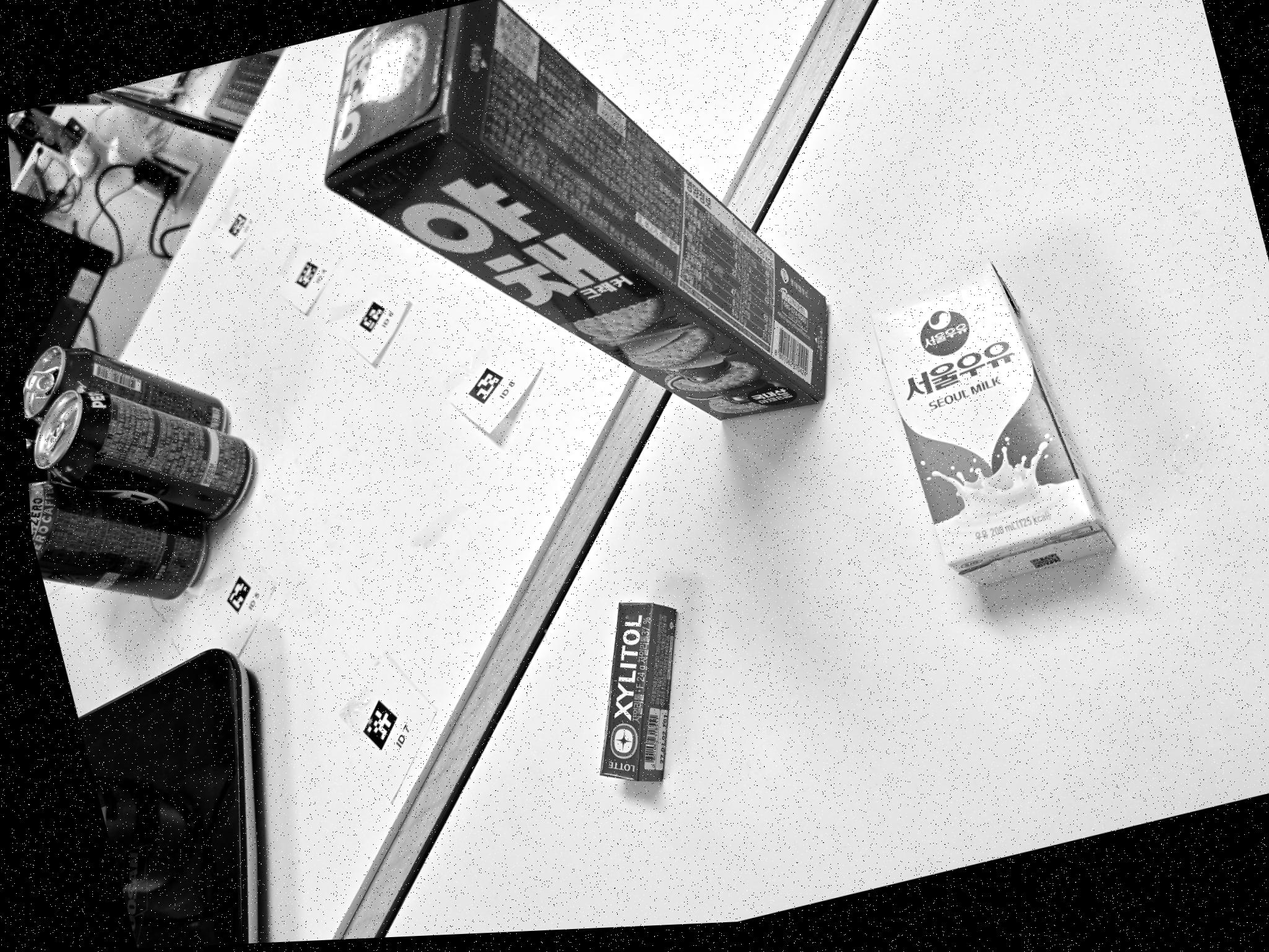cracker_vege: (325, 0, 827, 420)
gum_green: (601, 603, 677, 782)
milk_green: (872, 264, 1114, 585)
